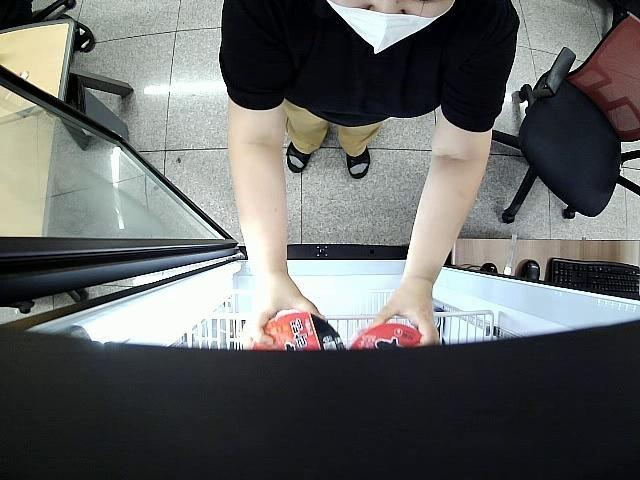01_ShinRamen_L: (247, 312, 346, 350), (349, 322, 434, 351)
